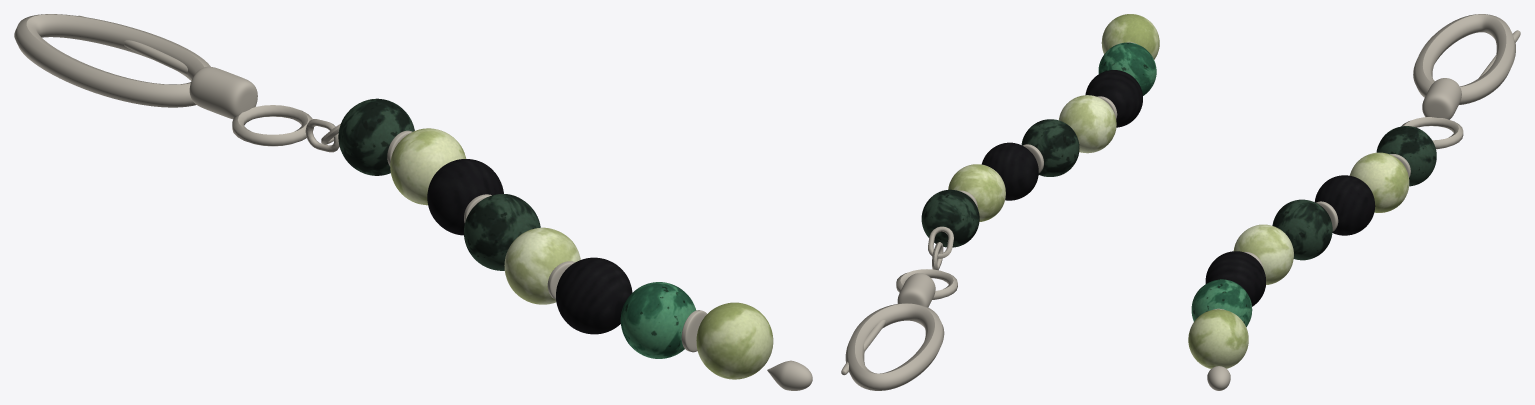
Rendered from standard.glb.
3 views of the same model, side by side, from view 1: azimuth 30°, elevation 25°; view 2: azimuth 150°, elevation 25°; view 3: azimuth 330°, elevation 25° (orthographic). The views are drawn at different scales.
Parts seen in each view (by area): view 1: hak.006, bead_round_1.002, bead_round_2.001, bead_round_0.002, bead_round_0, bead_round_0.001, bead_round_1.001, bead_round_1, bead_round_2, bead_peg_0.004, kolko.032, bead_drop_0 (+1 smaller); view 2: hak.006, bead_round_0, bead_round_1.001, bead_round_0.001, bead_round_2, bead_round_1, bead_round_2.001, bead_round_0.002, bead_round_1.002, bead_peg_0.004, kolko.032, ogniwo.001 (+1 smaller); view 3: hak.006, bead_round_1.002, bead_round_0.001, bead_round_2, bead_round_1, bead_round_1.001, bead_round_0, bead_round_2.001, bead_round_0.002, bead_peg_0.004, kolko.032, bead_drop_0.
Part boxes in pixels (x1,y1,x2,y2): hak.006: [14, 14, 210, 107]; bead_round_1.002: [696, 302, 773, 379]; bead_round_2.001: [556, 257, 632, 334]; bead_round_0.002: [620, 282, 696, 358]; bead_round_0: [338, 98, 414, 175]; bead_round_0.001: [464, 194, 540, 270]; bead_round_1.001: [504, 227, 580, 304]; bead_round_1: [390, 128, 466, 205]; bead_round_2: [427, 159, 503, 235]; bead_peg_0.004: [189, 66, 257, 119]; kolko.032: [232, 105, 313, 146]; bead_drop_0: [767, 360, 812, 390]; hak.006: [845, 303, 944, 390]; bead_round_0: [921, 189, 979, 247]; bead_round_1.001: [1059, 95, 1116, 153]; bead_round_0.001: [1021, 119, 1079, 176]; bead_round_2: [981, 142, 1038, 200]; bead_round_1: [948, 164, 1005, 221]; bead_round_2.001: [1085, 70, 1142, 127]; bead_round_0.002: [1098, 42, 1156, 95]; bead_round_1.002: [1101, 14, 1159, 59]; bead_peg_0.004: [897, 273, 935, 307]; kolko.032: [896, 269, 957, 299]; ogniwo.001: [928, 226, 953, 258]; hak.006: [1413, 14, 1515, 104]; bead_round_1.002: [1188, 309, 1248, 368]; bead_round_0.001: [1272, 199, 1332, 260]; bead_round_2: [1314, 175, 1375, 235]; bead_round_1: [1350, 152, 1409, 212]; bead_round_1.001: [1233, 224, 1293, 284]; bead_round_0: [1376, 126, 1436, 186]; bead_round_2.001: [1205, 251, 1265, 306]; bead_round_0.002: [1191, 279, 1252, 326]; bead_peg_0.004: [1422, 78, 1461, 119]; kolko.032: [1401, 117, 1463, 149]; bead_drop_0: [1207, 366, 1230, 390].
Size of the model in its own units: 2.75 by 0.7272 by 10.58.
8 materials, 7 textured.
